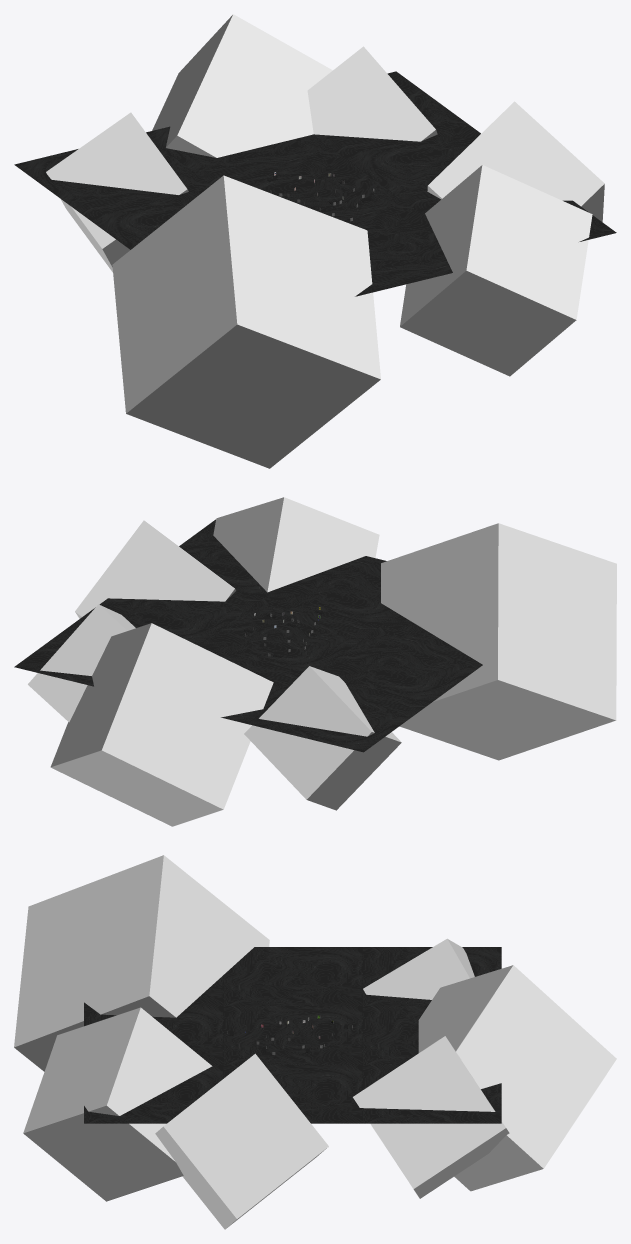
Rendered from room2_dark.glb.
The picture shows the model from 3 angles, top to bottom: view 1: azimuth 30°, elevation 25°; view 2: azimuth 150°, elevation 25°; view 3: azimuth 270°, elevation 25°; orthographic projection. The views are drawn at different scales.
Parts seen in each view (by area): view 1: Cube.046, Cube.045, Cube.042, Cube.044, Cube.043, Cube.041, Plane.026, Plane.032, Plane.027, Plane.028, Plane.029, Plane.031 (+1 smaller); view 2: Cube.046, Cube.042, Cube.041, Cube.045, Plane.026, Plane.031, Cube.044, Plane.027, Cube.043, Plane.032, Plane.029, Plane.033 (+3 smaller); view 3: Cube.046, Cube.042, Cube.045, Cube.044, Cube.043, Plane.026, Plane.031, Plane.032, Cube.041, Plane.028, Plane.029, Plane.034 (+3 smaller).
Boxes of the visible parts, x1,y1,x2,y2 form: Cube.046: (112, 175, 380, 468); Cube.045: (400, 165, 592, 376); Cube.042: (152, 14, 332, 157); Cube.044: (427, 101, 604, 221); Cube.043: (307, 46, 437, 141); Cube.041: (46, 112, 188, 272); Plane.026: (240, 156, 415, 225); Plane.032: (343, 125, 480, 209); Plane.027: (354, 210, 452, 294); Plane.028: (146, 126, 341, 184); Plane.029: (14, 142, 210, 218); Plane.031: (88, 189, 205, 249); Cube.046: (381, 523, 616, 760); Cube.042: (50, 623, 273, 826); Cube.041: (244, 666, 401, 810); Cube.045: (213, 497, 379, 592); Plane.026: (199, 597, 381, 671); Plane.031: (321, 625, 482, 702); Cube.044: (75, 520, 236, 618); Plane.027: (265, 556, 397, 625); Cube.043: (28, 604, 135, 722); Plane.032: (81, 590, 264, 645); Plane.029: (247, 682, 430, 752); Plane.033: (179, 519, 274, 596); Cube.046: (14, 855, 269, 1071); Cube.042: (418, 965, 616, 1191); Cube.045: (23, 1007, 212, 1201); Cube.044: (155, 1053, 328, 1229); Cube.043: (353, 1036, 509, 1198); Plane.026: (223, 1006, 362, 1064); Plane.031: (223, 947, 362, 1005); Plane.032: (223, 1064, 362, 1123); Cube.041: (363, 938, 474, 999); Plane.028: (362, 1006, 427, 1064); Plane.029: (362, 947, 501, 1005); Plane.034: (362, 1064, 501, 1123).
Bounding box in the file's own units: 252 × 128 × 263.
38 materials, 27 textured.
